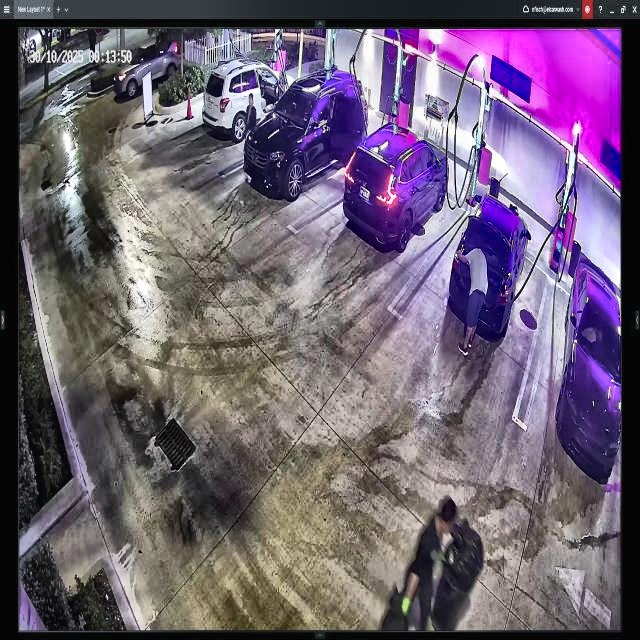Car: (245, 72, 367, 194), (343, 125, 450, 252), (452, 188, 530, 342)
